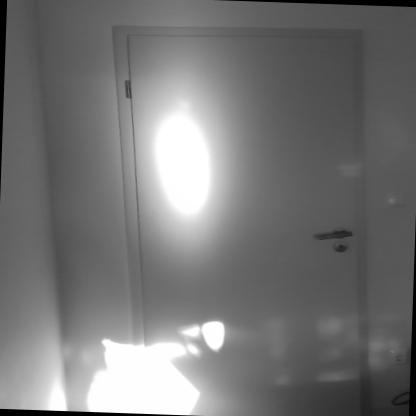closed: (84, 19, 382, 412)
